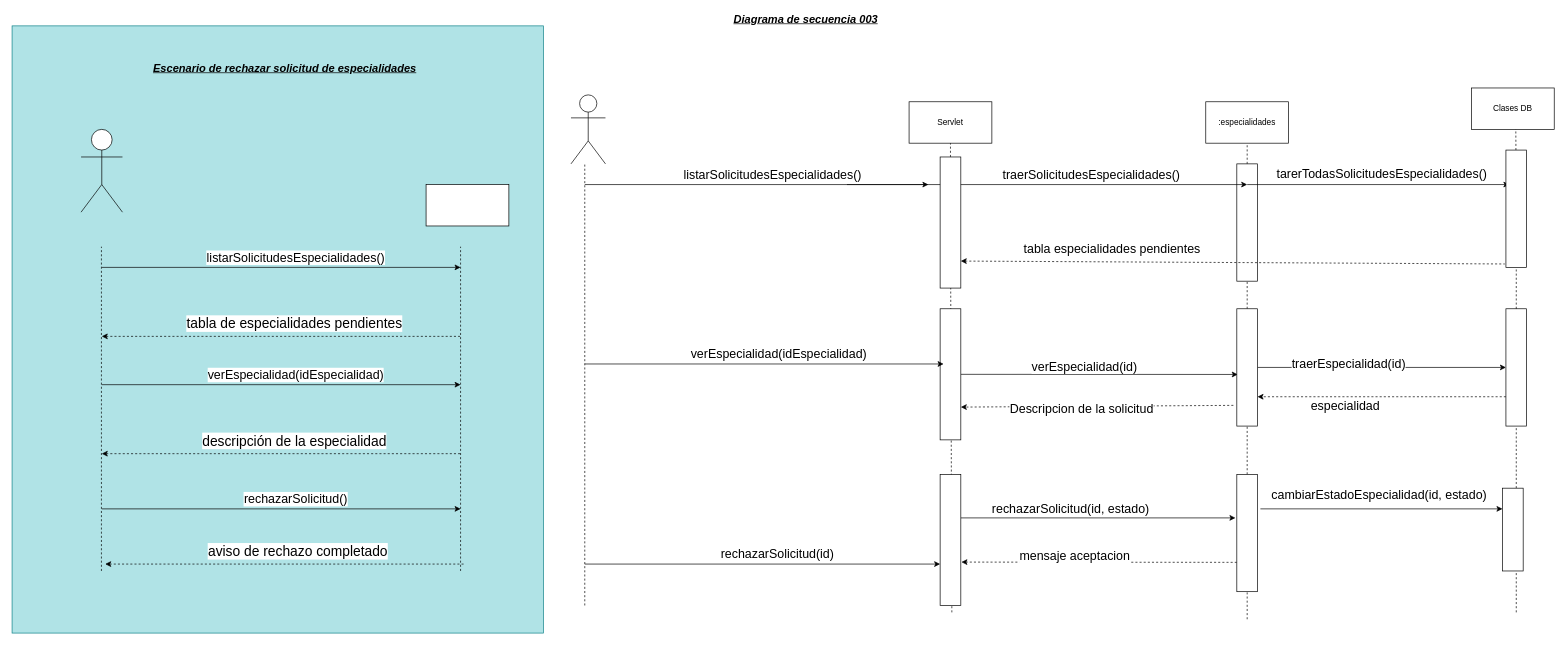
This 1566x645 diagram has some shape labels left out. The shapes that lost their labels are listed below. From the top down, each one's box as (x1, y1, x2, y2) in pixels, then its label:
(80, 129, 122, 212): :Administrador
(425, 184, 509, 226): :Sistema
